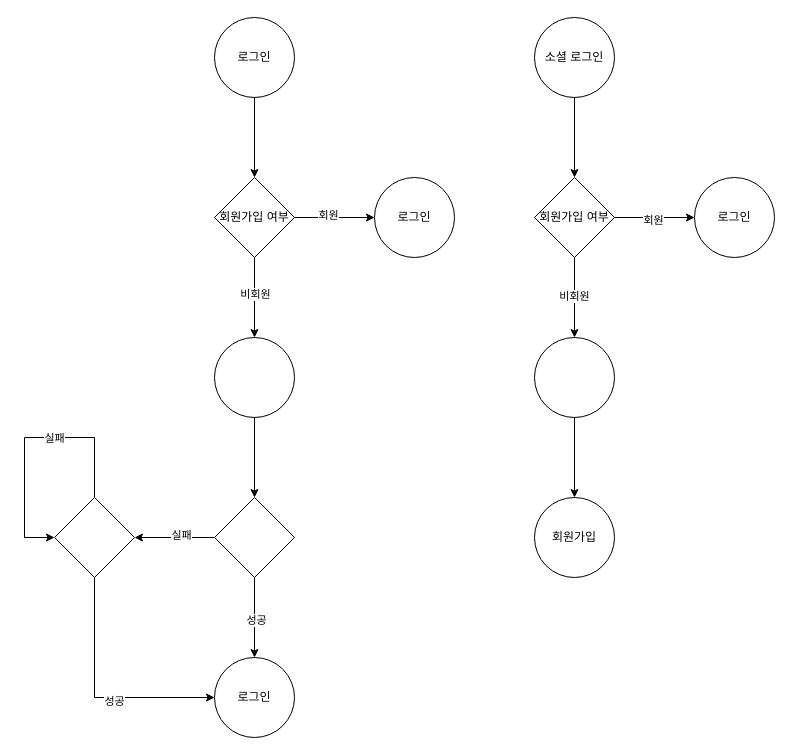
This 792x755 diagram has some shape labels left out. The shapes that lost their labels are listed below. From the top down, each one's centre as x and y in pixels, then its label:
pixel 254 377: 회원정보 입력
pixel 574 377: 회원정보입력
pixel 94 537: 재인증
pixel 254 537: 이메일 인증
